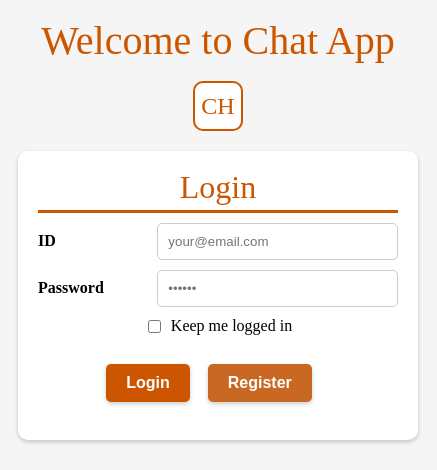
Test case: Login Component › handlePasswordOnChange clears general error message
The image size is (437, 470).
Type "user@email.com" into the field labelled "ID" at (278, 241), box [157,222,398,260]
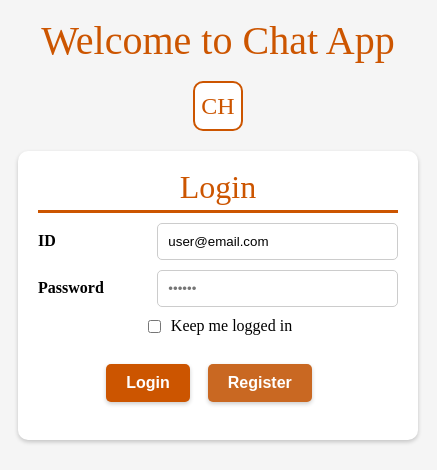
Type "Password123" into the password field labelled "Password" at (278, 288), box [157,270,398,306]
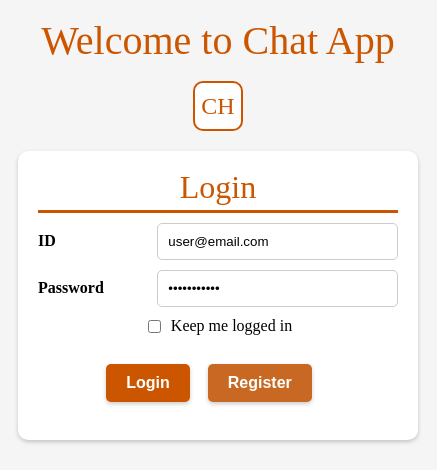
Click the button "Login" at (148, 382), box [106,364,190,402]
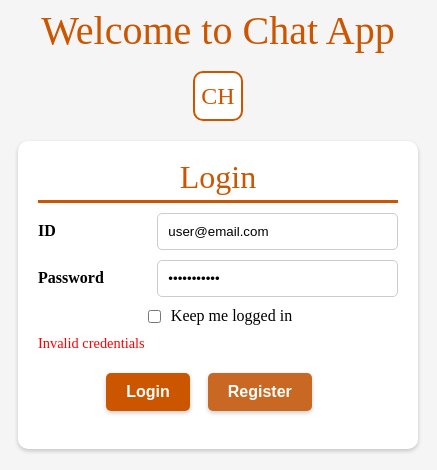
Result: the text "Invalid credentials" is shown at [38,335,145,351]
Type "b" into the password field labelled "Password" at (278, 278), box [157,260,398,297]
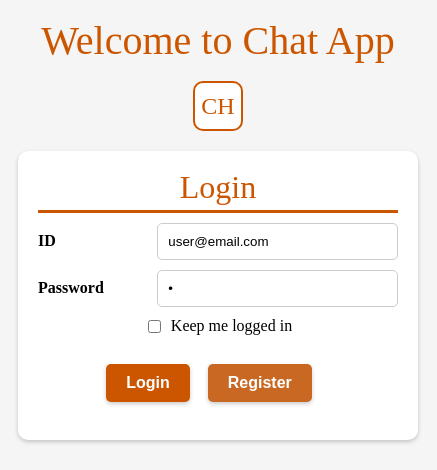
Result: the text "Invalid credentials" is gone
